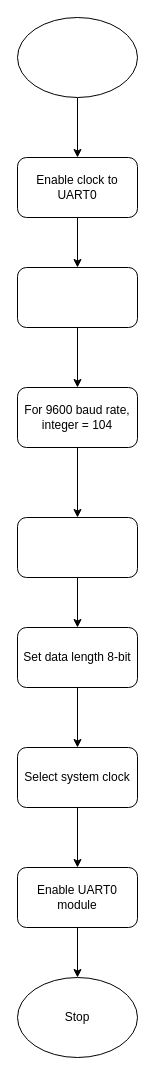
Some shapes in this 155 by 1075 pixel diagram are drawn without their labels. Here are the shapes that lost their labels. From the top down, the centre of each, then its label:
At (77,57): "Start".
At (77,297): "Disable UART0 module".
At (77,547): "For 9600 baud rate, fractional = 11".
